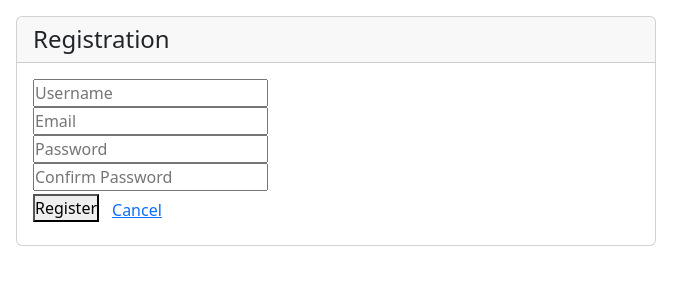
Scenario: Registration Page › submits register form with valid credentials
Type "testuser" into the field with placeholder "Username" at (150, 93), box [33, 79, 268, 107]
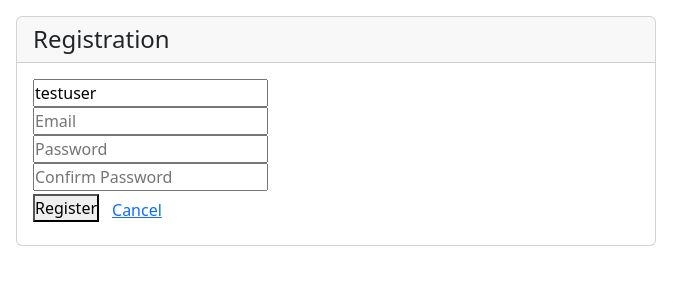
Type "testuser@gmail.com" into the field with placeholder "Email" at (150, 121), box [33, 107, 268, 135]
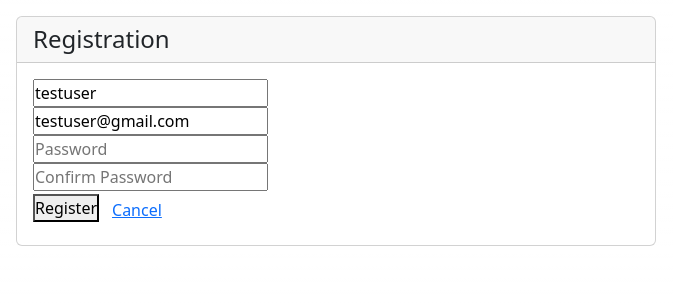
Type "password" into the password field with placeholder "Password" at (150, 149), box [33, 135, 268, 163]
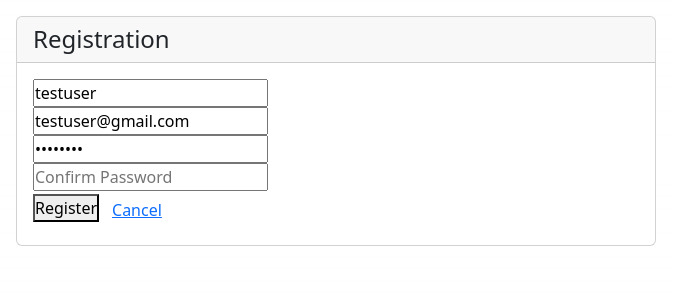
Type "password" into the password field with placeholder "Confirm Password" at (150, 177), box [33, 163, 268, 191]
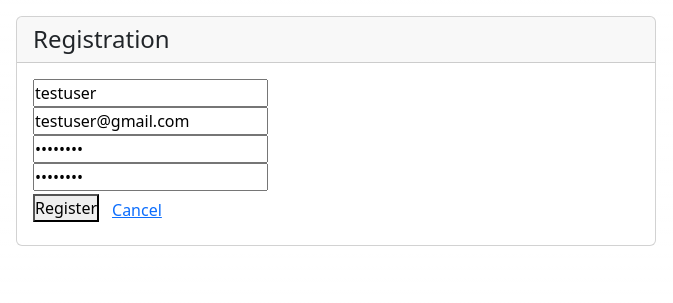
Click the button "Register" at (66, 208), box [33, 194, 99, 222]
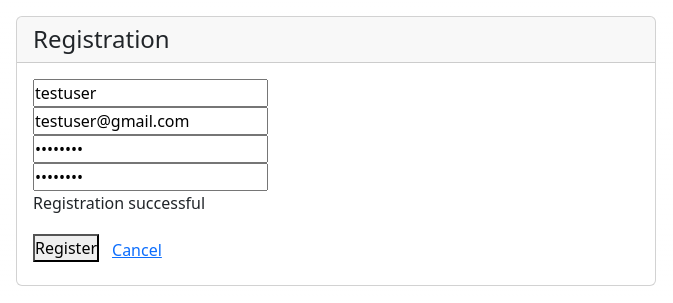
Check: the text "Registration successful" is shown, box [33, 192, 205, 214]
